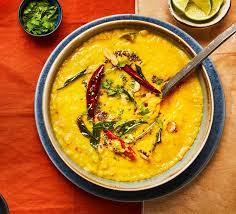Dhal Curry: (48, 31, 201, 181)
